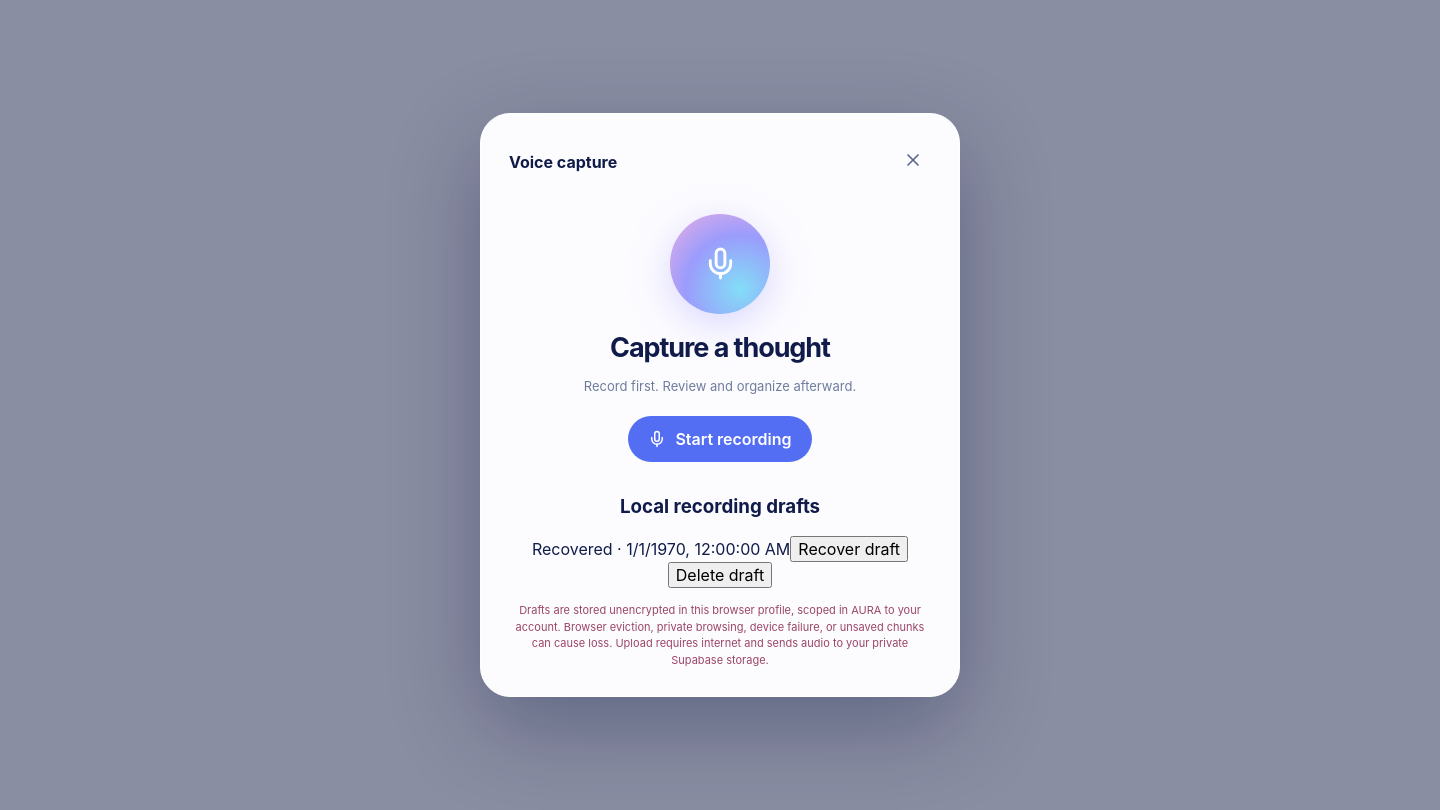
Test: deletes local chunks only after confirmed remote save
Click the button "Recover draft".
click(849, 549)  # box [790,536,908,562]
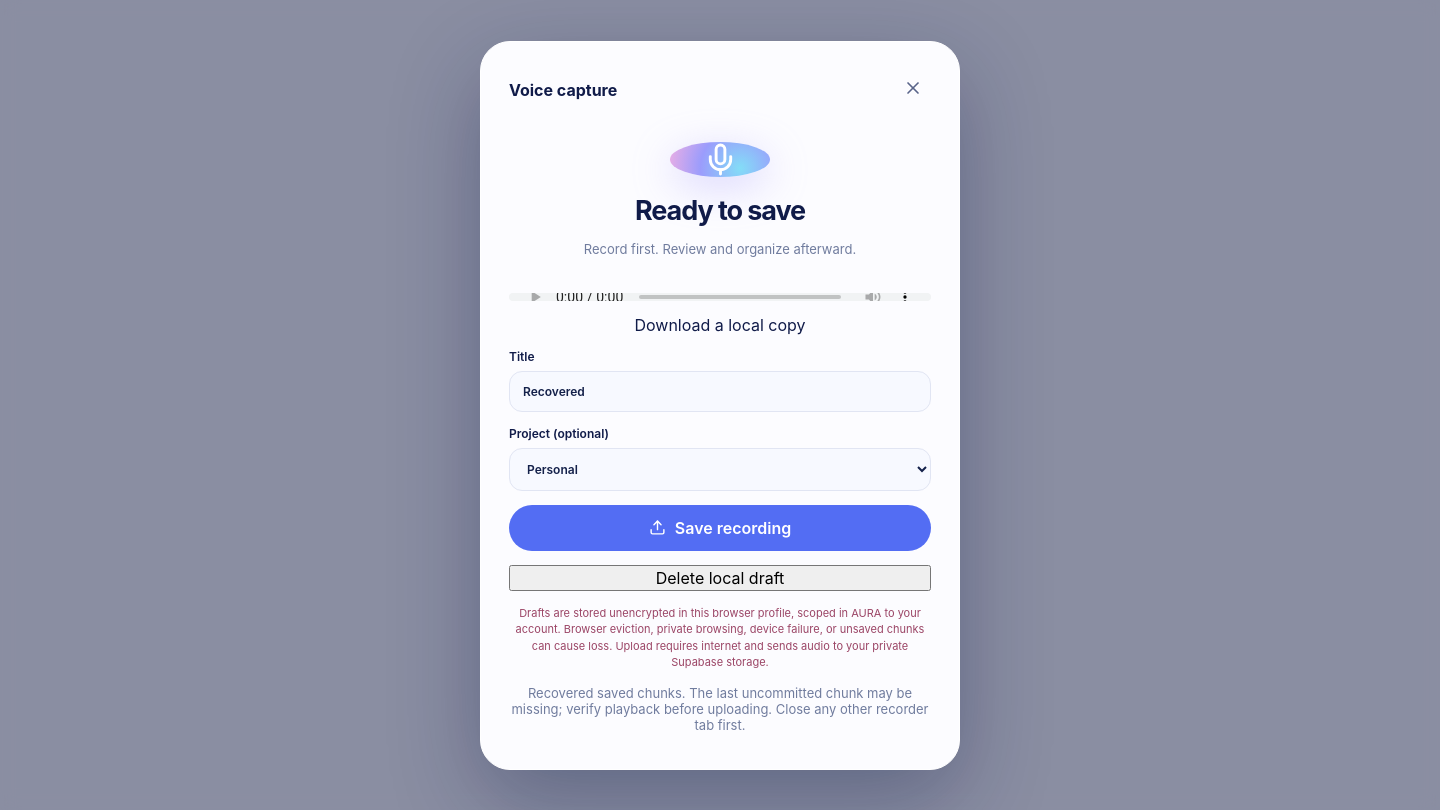
Check: the button "Save recording" is shown
Click the button "Save recording".
click(720, 528)  # box [509,504,931,550]
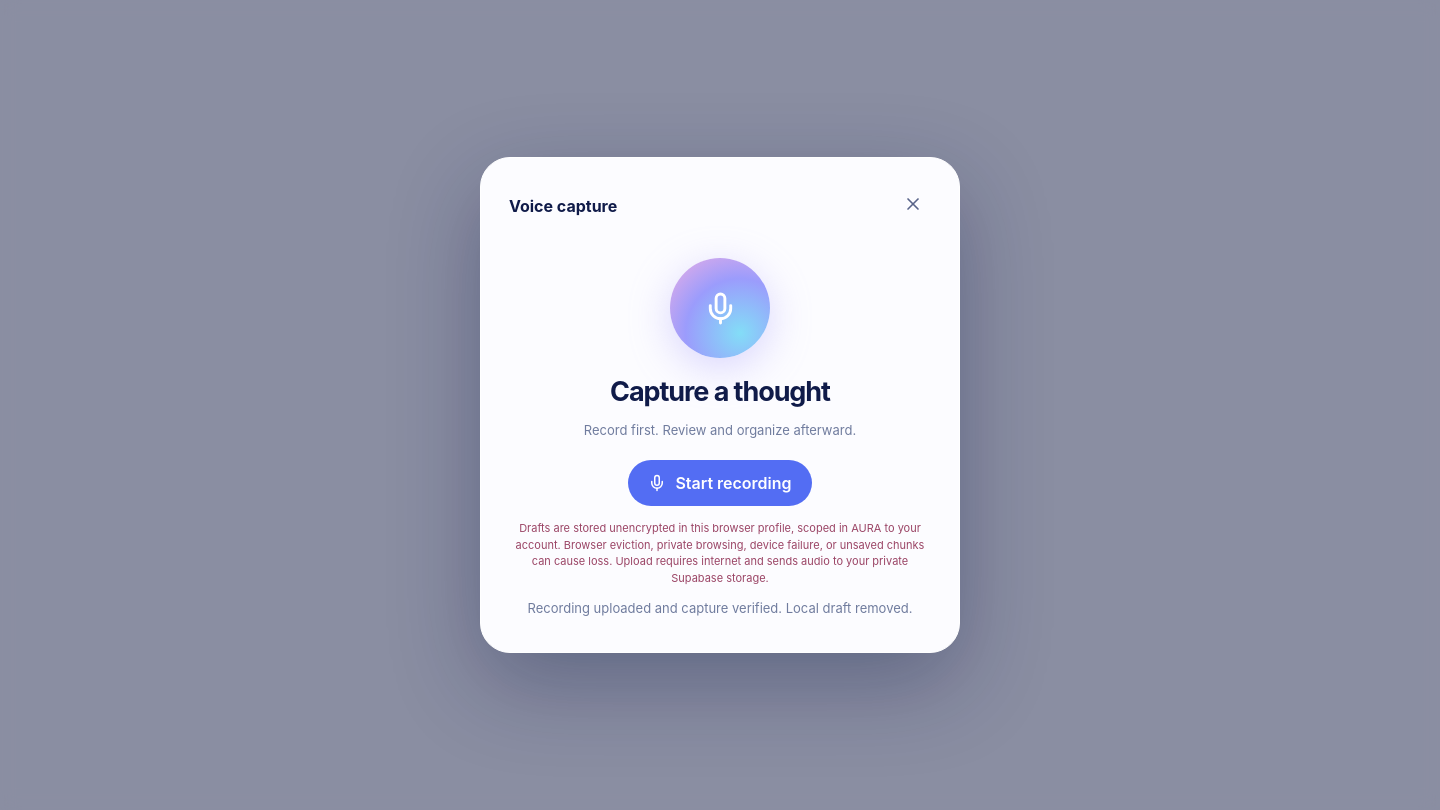
Check: the message shows "capture verified", box [528,600,912,616]
